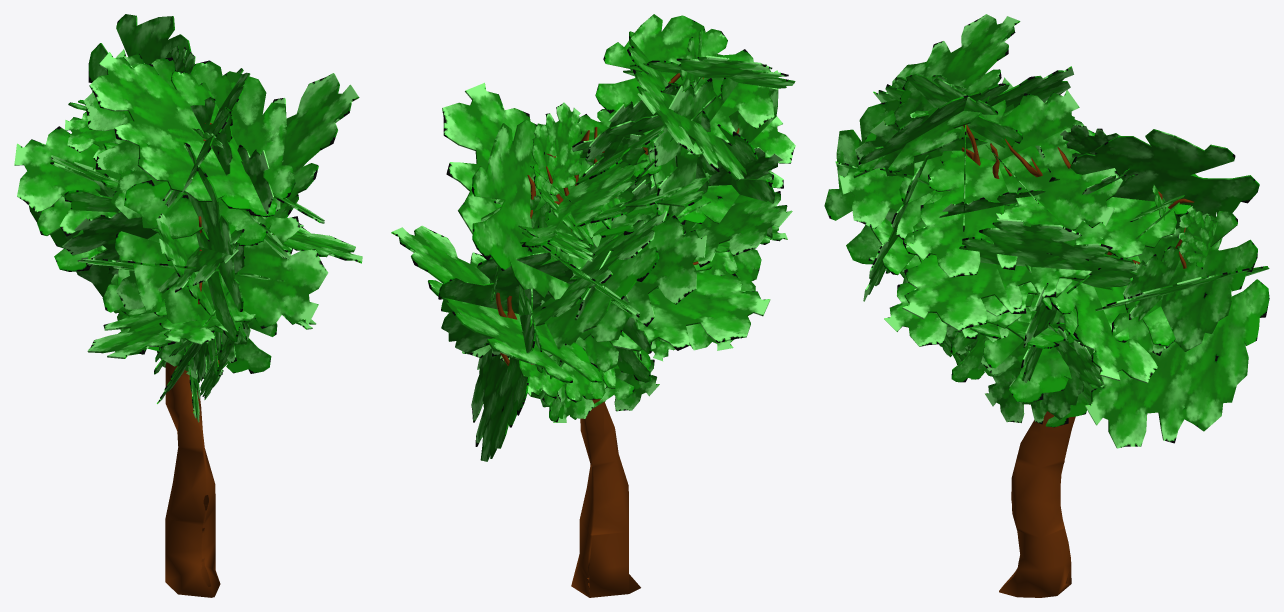
The model's file is tree1.fbx.
3 renders of one model, left to right at view 1: azimuth 30°, elevation 25°; view 2: azimuth 150°, elevation 25°; view 3: azimuth 270°, elevation 25°, orthographic. The views are drawn at different scales.
Parts seen in each view (by area): view 1: c090c787-1d18-485c-aed2-695b9deaaf12|d2bc2ccb-dd17-4b76-b26a (×28), c090c787-1d18-485c-aed2-695b9deaaf12, d2bc2ccb-dd17-4b76-b26a-1273e3ee6d55.019; view 2: c090c787-1d18-485c-aed2-695b9deaaf12|d2bc2ccb-dd17-4b76-b26a (×38), c090c787-1d18-485c-aed2-695b9deaaf12, d2bc2ccb-dd17-4b76-b26a-1273e3ee6d55.019; view 3: c090c787-1d18-485c-aed2-695b9deaaf12|d2bc2ccb-dd17-4b76-b26a (×33), c090c787-1d18-485c-aed2-695b9deaaf12, d2bc2ccb-dd17-4b76-b26a-1273e3ee6d55.019.
Boxes of the visible parts, x1,y1,x2,y2 form: c090c787-1d18-485c-aed2-695b9deaaf12|d2bc2ccb-dd17-4b76-b26a (×28): (14,14,362,403); c090c787-1d18-485c-aed2-695b9deaaf12: (165,123,220,597); d2bc2ccb-dd17-4b76-b26a-1273e3ee6d55.019: (272,73,359,218); c090c787-1d18-485c-aed2-695b9deaaf12|d2bc2ccb-dd17-4b76-b26a (×38): (391,14,795,461); c090c787-1d18-485c-aed2-695b9deaaf12: (496,73,739,597); d2bc2ccb-dd17-4b76-b26a-1273e3ee6d55.019: (442,83,530,234); c090c787-1d18-485c-aed2-695b9deaaf12|d2bc2ccb-dd17-4b76-b26a (×33): (824,14,1269,448); c090c787-1d18-485c-aed2-695b9deaaf12: (961,124,1194,597); d2bc2ccb-dd17-4b76-b26a-1273e3ee6d55.019: (959,218,1137,290).
Bounding box in the file's own units: 57.44 × 102 × 77.98.
Materials: 2 (2 with a texture image).
